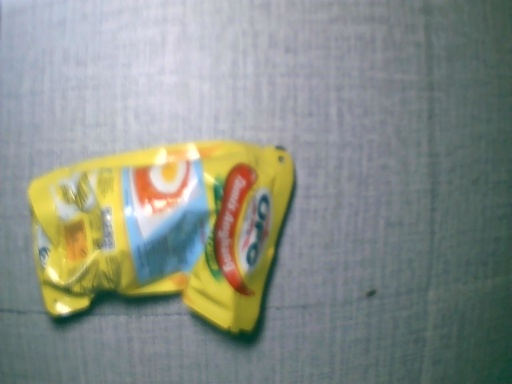plastic: (22, 144, 294, 342)
